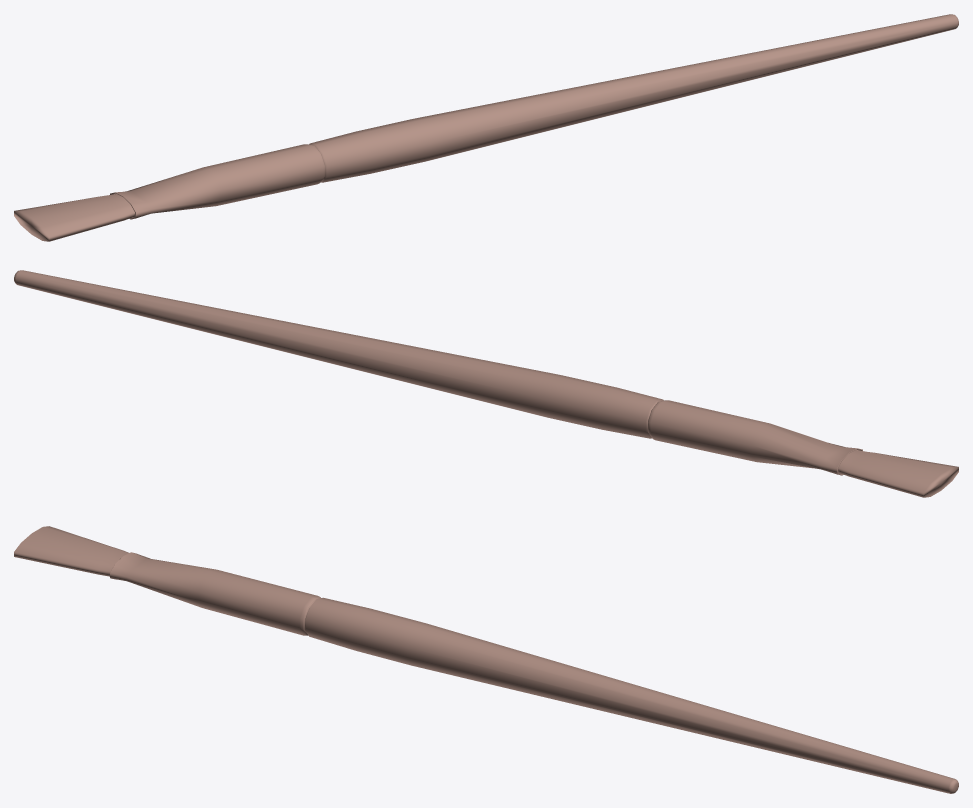
File: brush2.fbx
3 renders of one model, top to bottom at view 1: azimuth 30°, elevation 25°; view 2: azimuth 150°, elevation 25°; view 3: azimuth 330°, elevation 25°, orthographic.
Parts seen in each view (by area): view 1: pCylinder1; view 2: pCylinder1; view 3: pCylinder1.
Boxes of the visible parts, <box> form: pCylinder1: <box>14,14,958,241</box>; pCylinder1: <box>14,270,958,497</box>; pCylinder1: <box>14,526,958,793</box>.
Size of the model in its own units: 0.5199 by 0.0224 by 0.0343.
